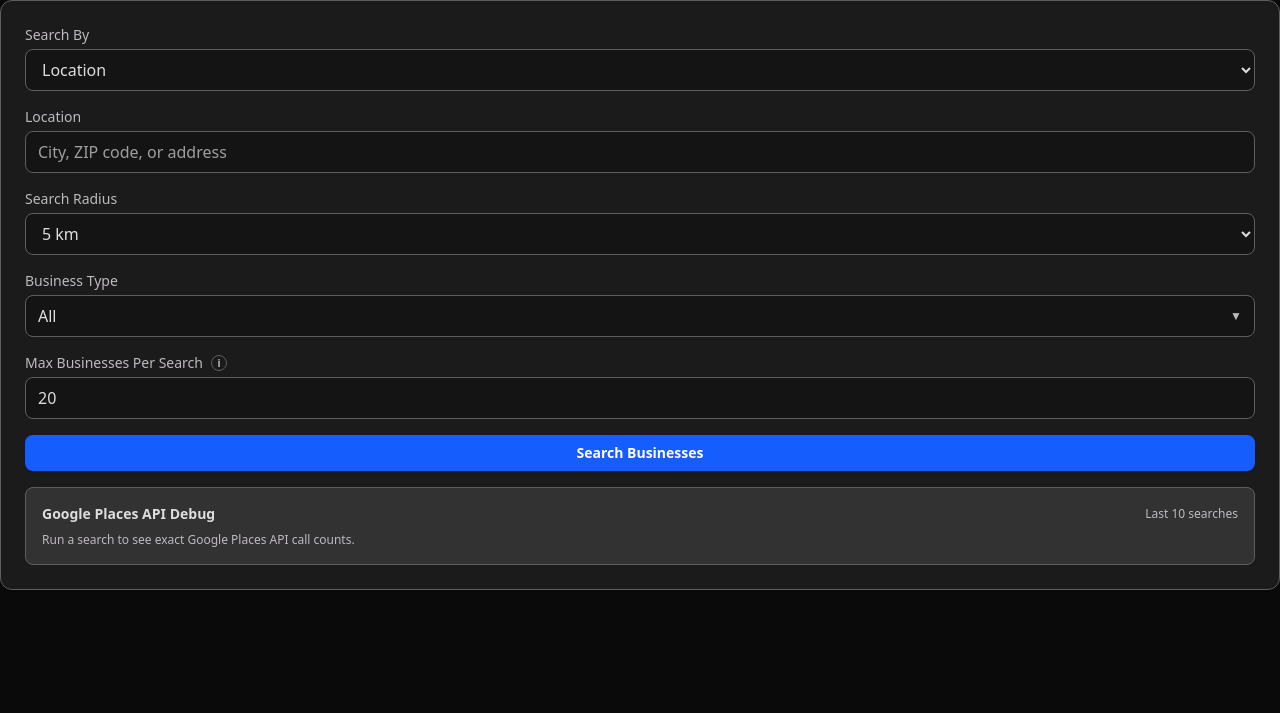
Test: SearchForm › shows Google Places API debug metrics after a successful search
Type "Seattle" into the field labelled "Location". click: (640, 152)
box: x1=25 y1=131 x2=1255 y2=173
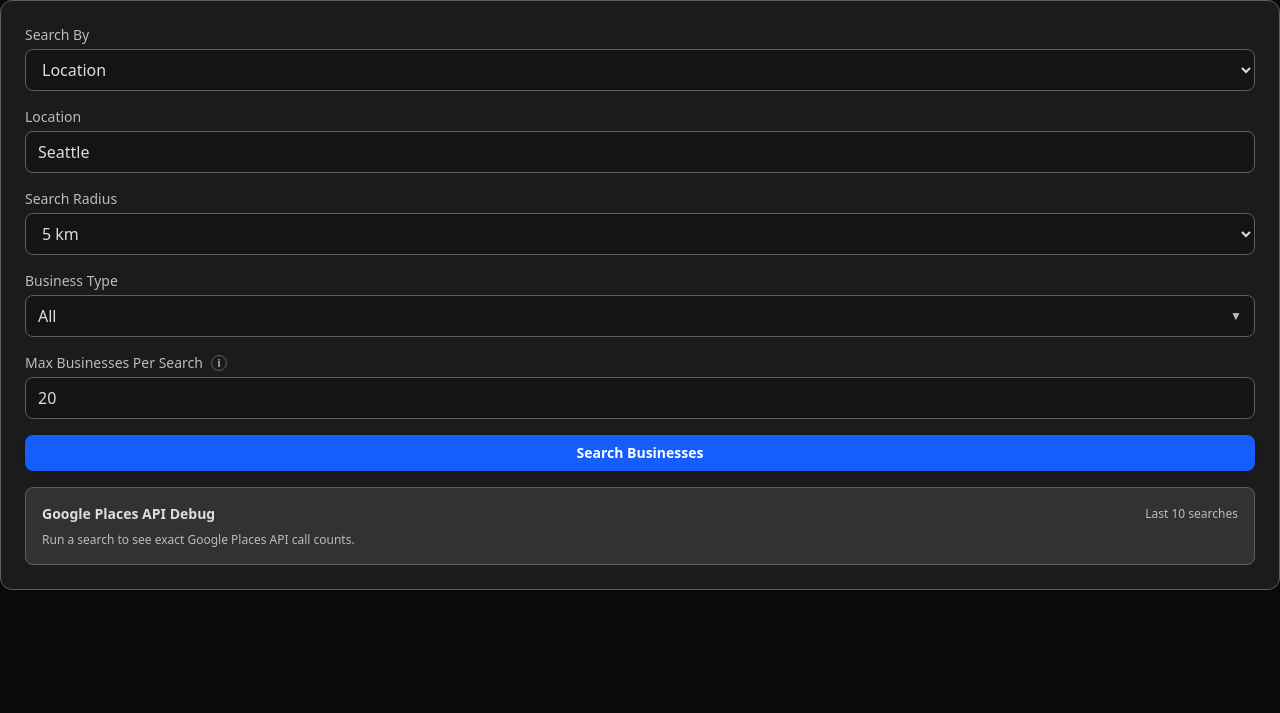
Click the button "Search Businesses". click: (640, 453)
box: x1=25 y1=435 x2=1255 y2=471
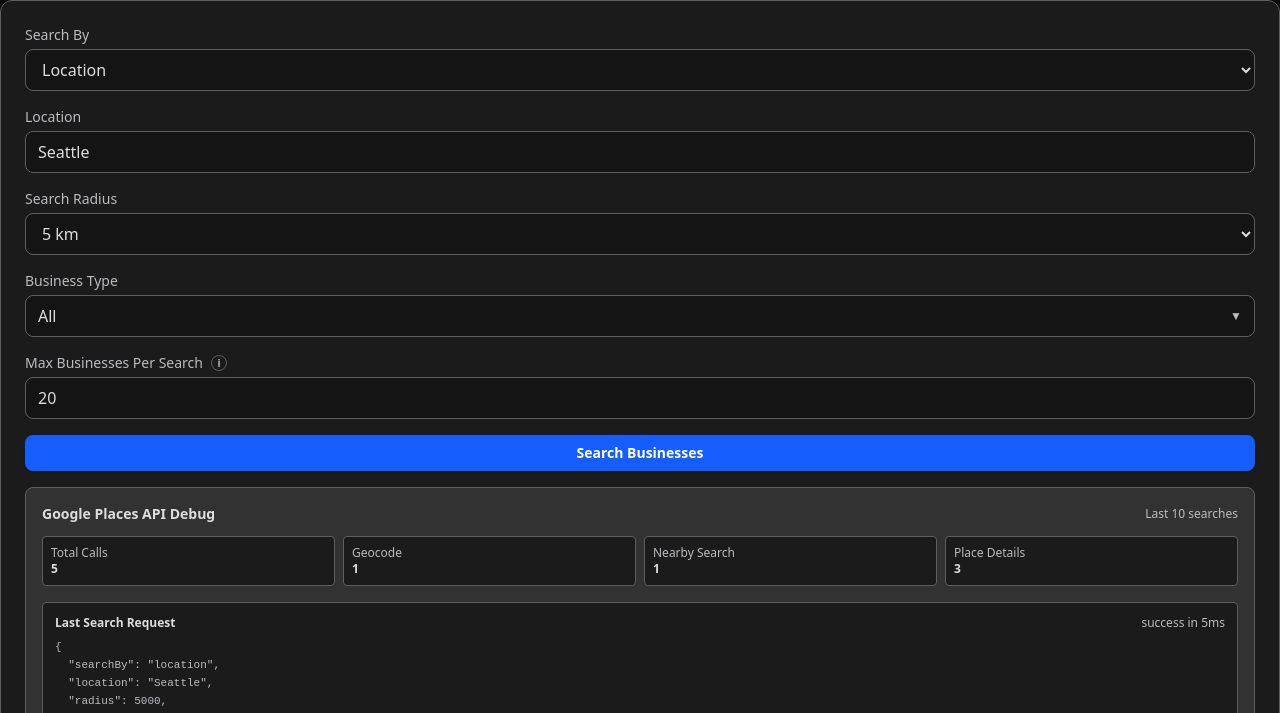
Check: the heading "Google Places API Debug" is shown, box x1=42 y1=504 x2=215 y2=524
Check: the text "5" is shown, box x1=51 y1=560 x2=58 y2=577
Check: the text "Total Calls" is shown, box x1=51 y1=544 x2=108 y2=561
